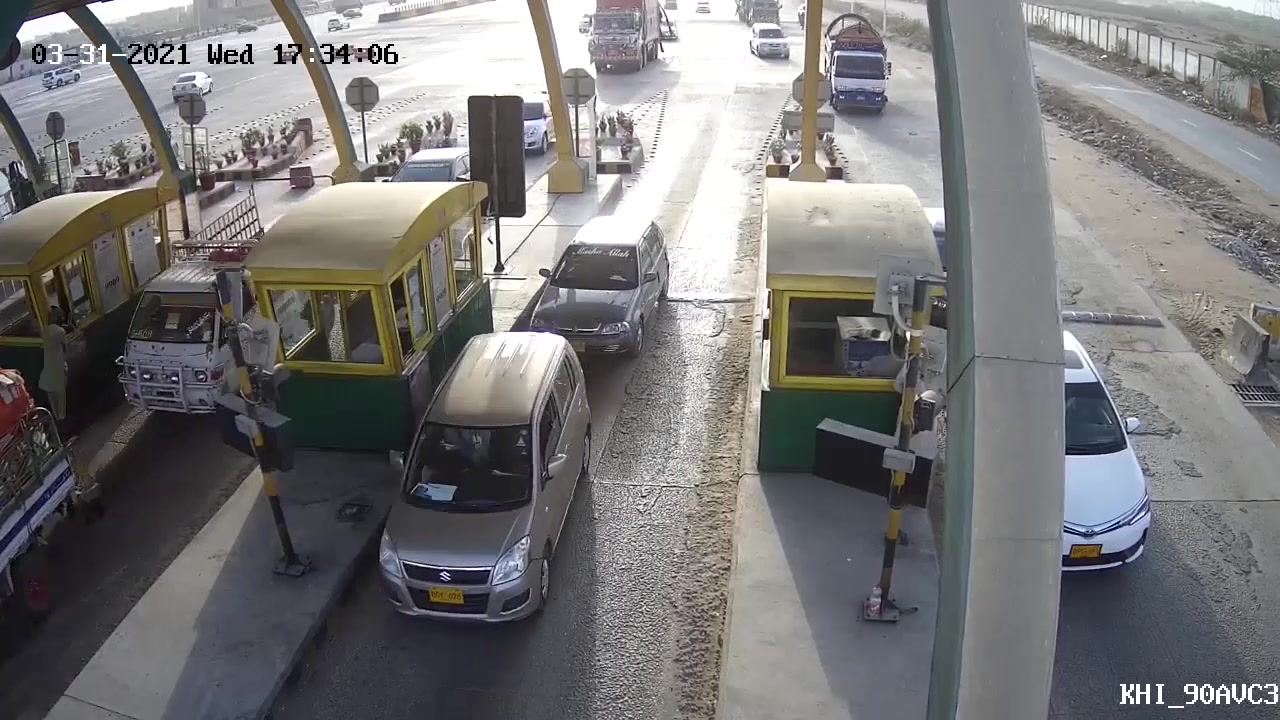F1: (370, 330, 595, 629)
